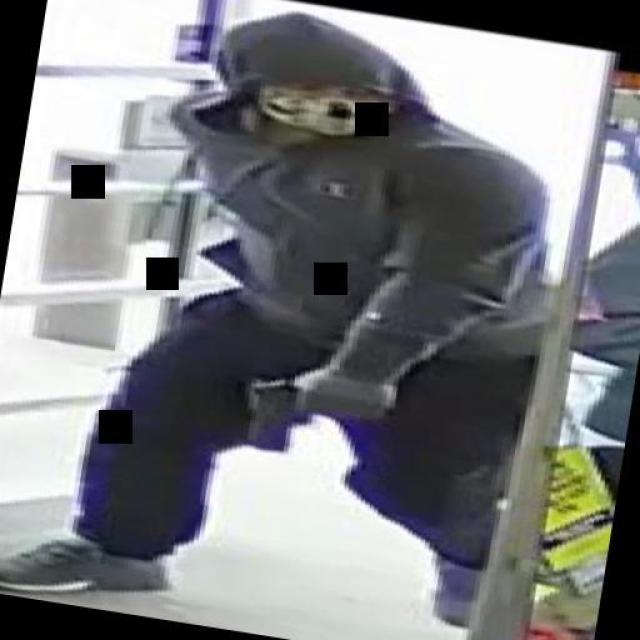gun: (218, 358, 398, 468)
